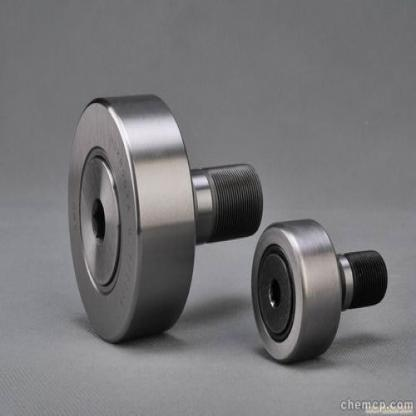FOD: (250, 214, 342, 365)
